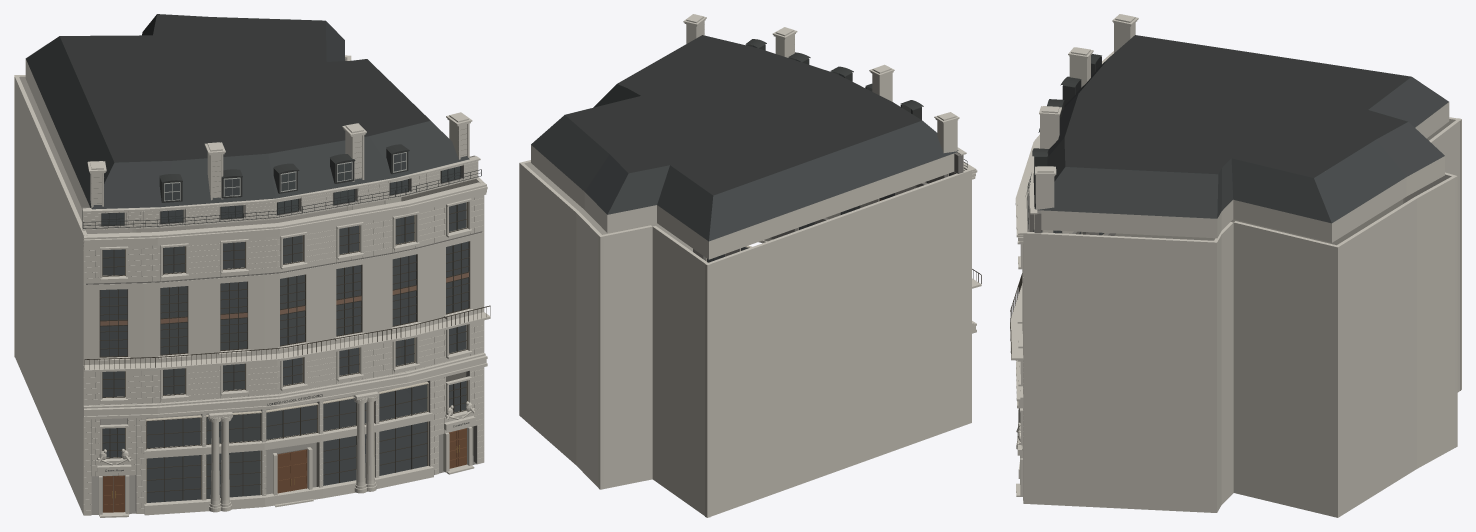
Rendered from clm-exterior-84687dd21b5e.glb.
3 views of the same model, side by side, from view 1: azimuth 30°, elevation 25°; view 2: azimuth 150°, elevation 25°; view 3: azimuth 270°, elevation 25° (orthographic). The views are drawn at different scales.
Visible parts, largest first — view 1: CLM.001; view 2: CLM.001; view 3: CLM.001.
Boxes of the visible parts, <box> form: CLM.001: <box>14,14,490,517</box>; CLM.001: <box>519,14,981,517</box>; CLM.001: <box>1010,14,1461,517</box>.
Bounding box in the file's own units: 33.24 × 28.79 × 34.59.
